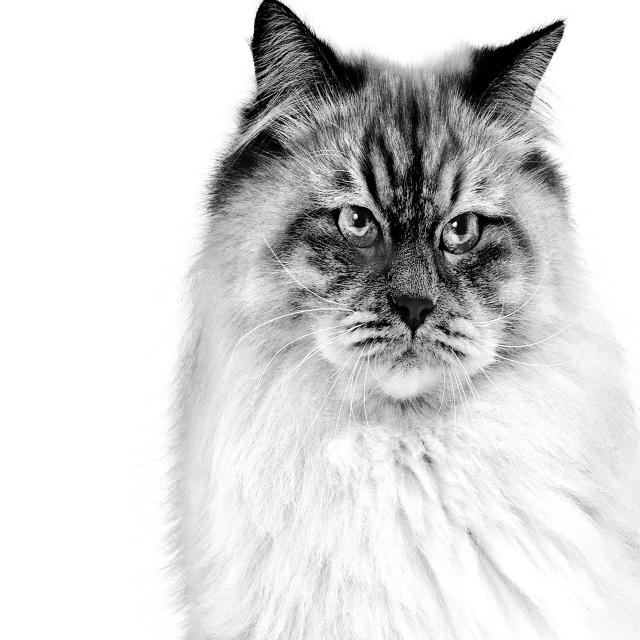Neva Masquerade: (163, 0, 640, 640)
